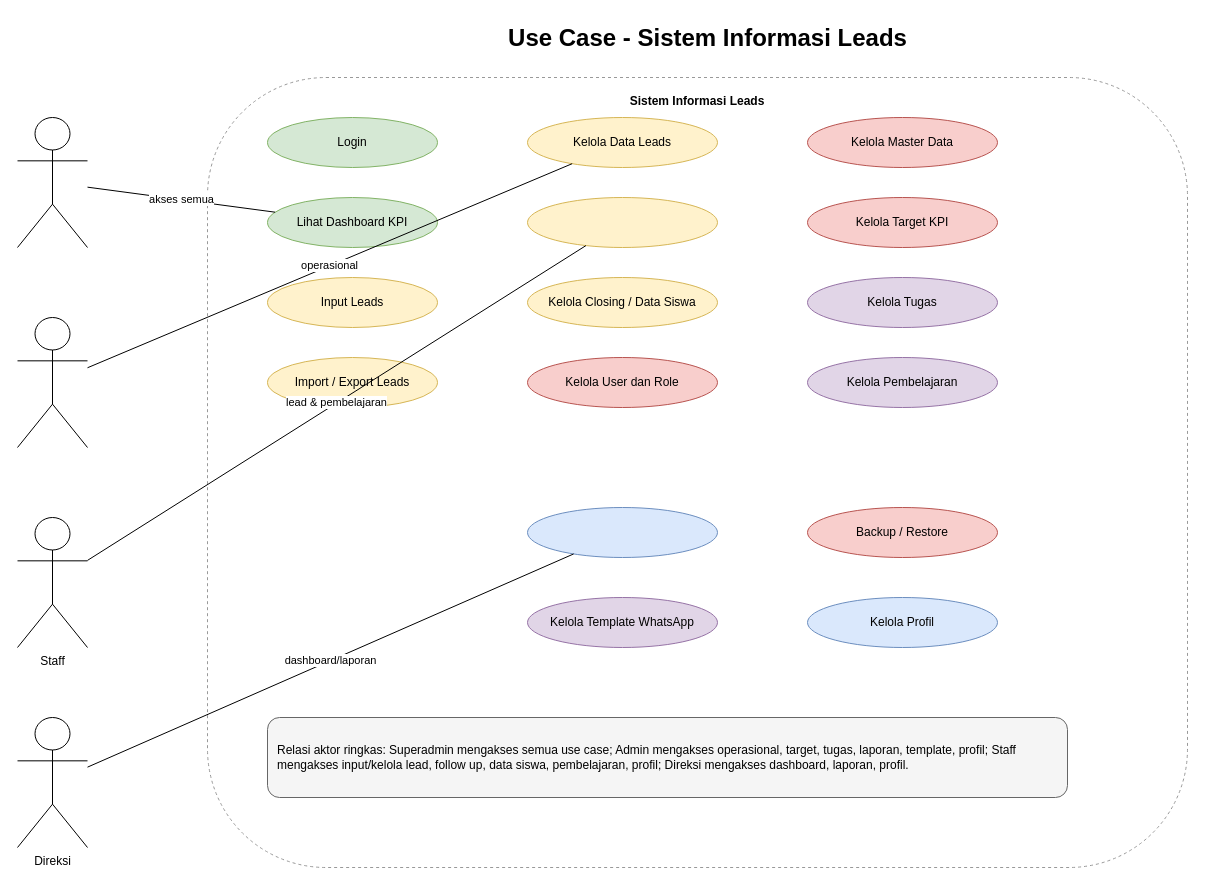
Image size: 1205x885. Some labels were removed from this diagram. The shapes that lost their labels are listed below. From the top down, each one's box as (x1, y1, x2, y2) in pixels, then its label:
(16, 116, 88, 248): Superadmin
(526, 196, 718, 248): Catat Follow Up
(16, 316, 88, 448): Admin
(526, 506, 718, 558): Lihat Laporan
